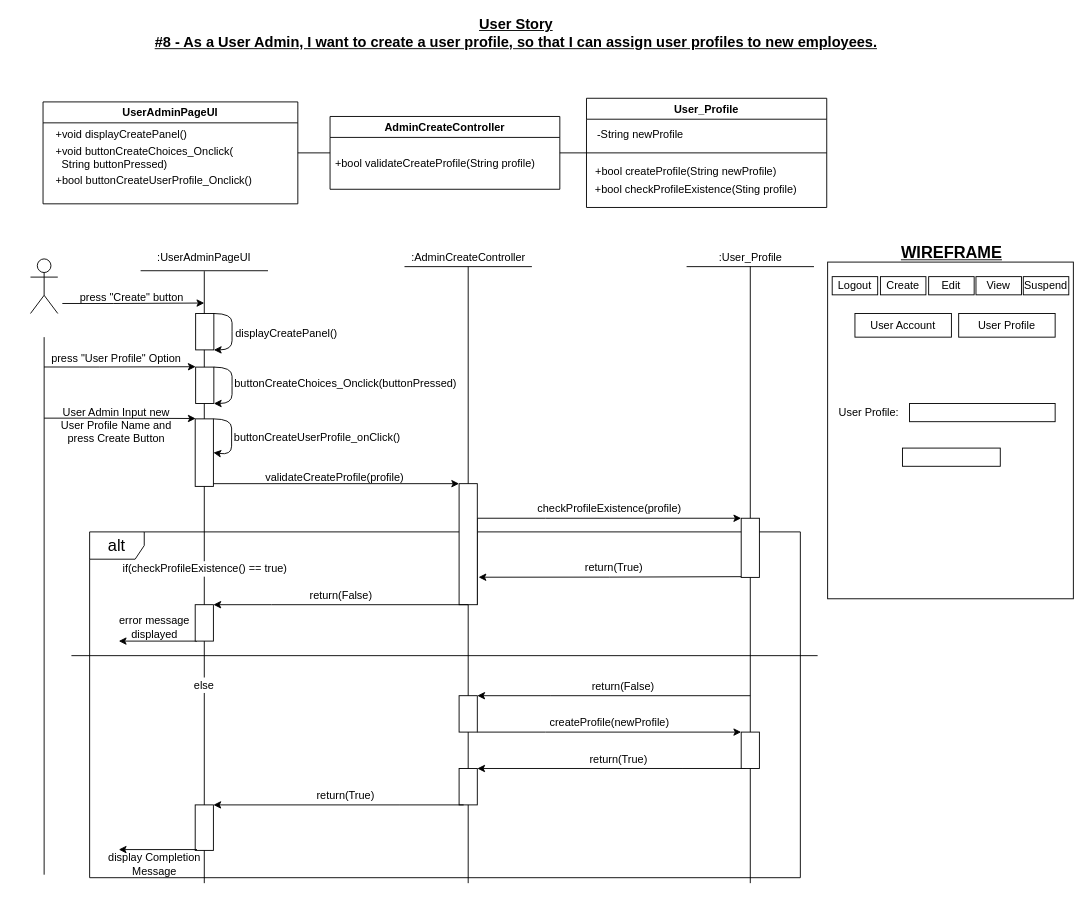
Some shapes in this 1089 by 900 pixel diagram are drawn without their labels. Here are the shapes that lost their labels. From the top down, the centre of each, then its label:
pixel 44 285: User Admin
pixel 951 456: Create User Profile
